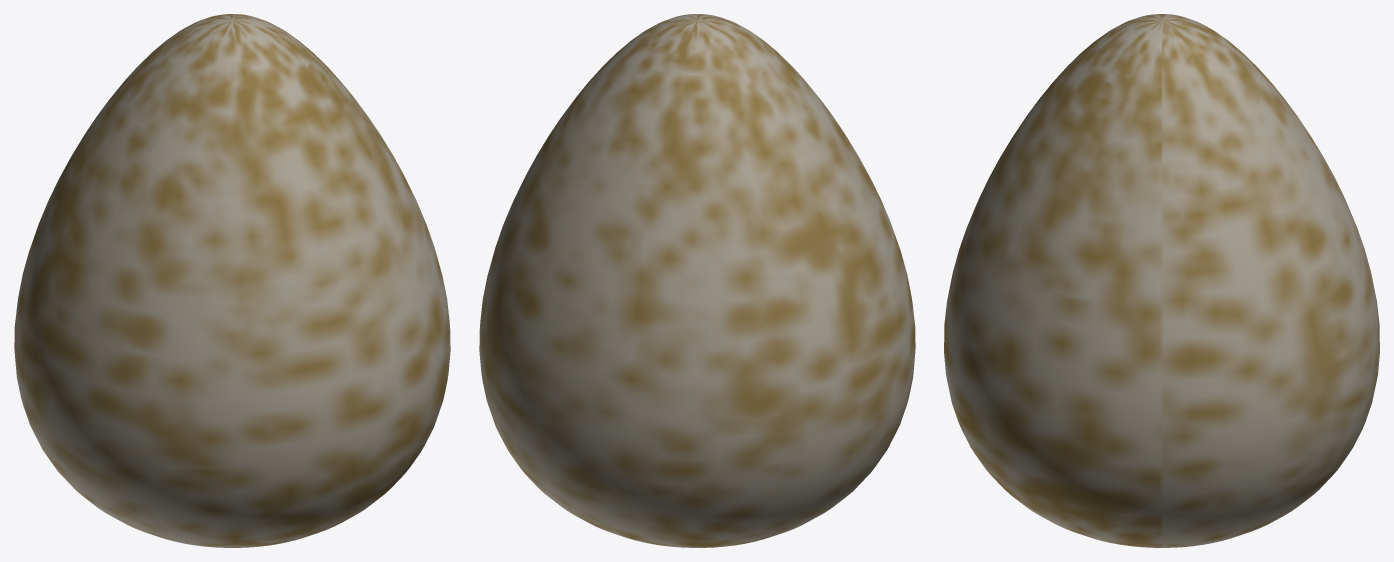
Rendered from egg.fbx.
The picture shows the model from 3 angles, left to right: view 1: azimuth 30°, elevation 25°; view 2: azimuth 150°, elevation 25°; view 3: azimuth 270°, elevation 25°; orthographic projection.
Parts seen in each view (by area): view 1: Sfera; view 2: Sfera; view 3: Sfera.
Part boxes in pixels (x1,y1,x2,y2): Sfera: [14, 14, 450, 547]; Sfera: [479, 14, 915, 547]; Sfera: [944, 14, 1379, 547].
Size of the model in its own units: 157 by 200 by 157.
1 material, 1 textured.
